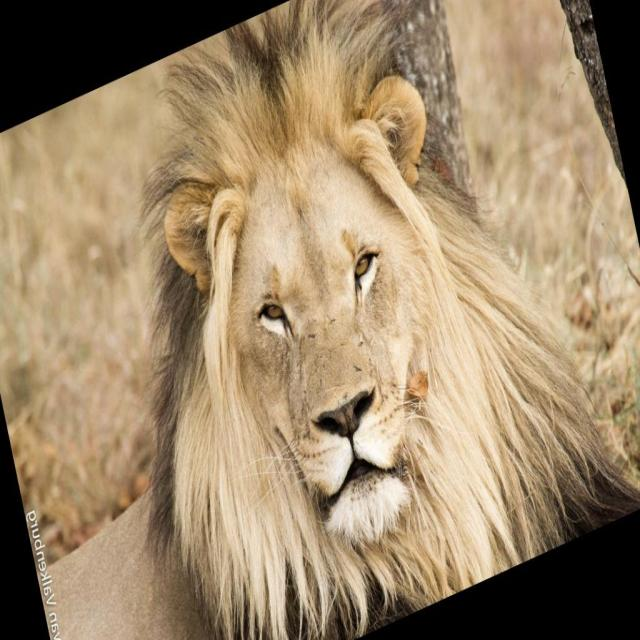Lion: (54, 0, 639, 639)
